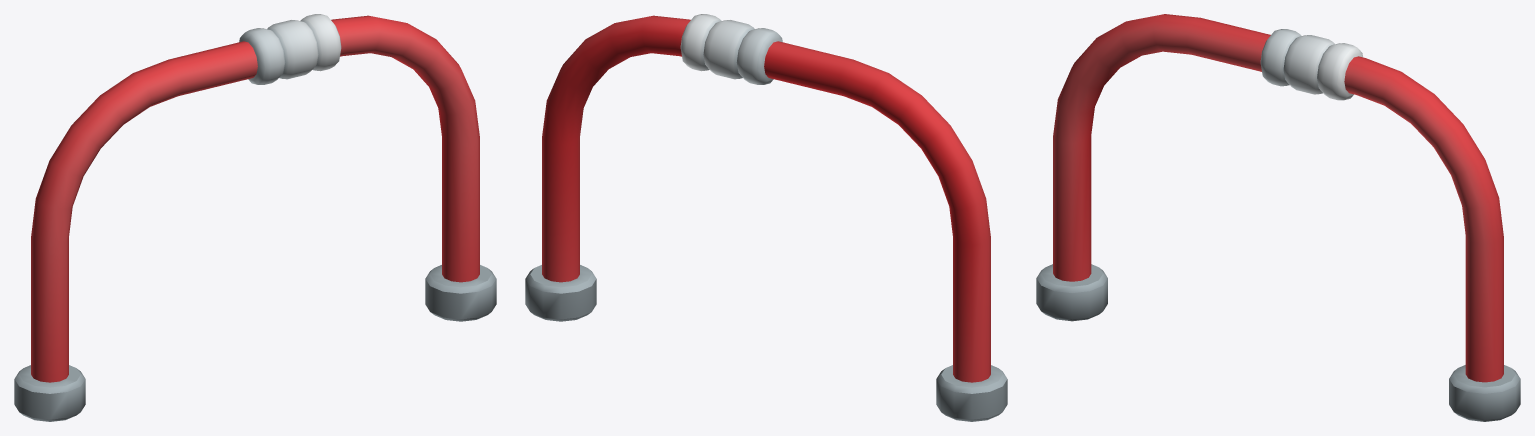
The model's file is arch_wide_red.glb.
3 renders of one model, left to right at view 1: azimuth 30°, elevation 25°; view 2: azimuth 150°, elevation 25°; view 3: azimuth 330°, elevation 25°, orthographic.
Visible parts, largest first — view 1: arch_wide_red; view 2: arch_wide_red; view 3: arch_wide_red.
Part boxes in pixels (left/top/right/bottom): arch_wide_red: left=14, top=14, right=496, bottom=421; arch_wide_red: left=525, top=14, right=1007, bottom=421; arch_wide_red: left=1036, top=14, right=1520, bottom=421.
Size of the model in its own units: 5.75 by 3.8 by 0.75.
Materials: 1 (1 with a texture image).
